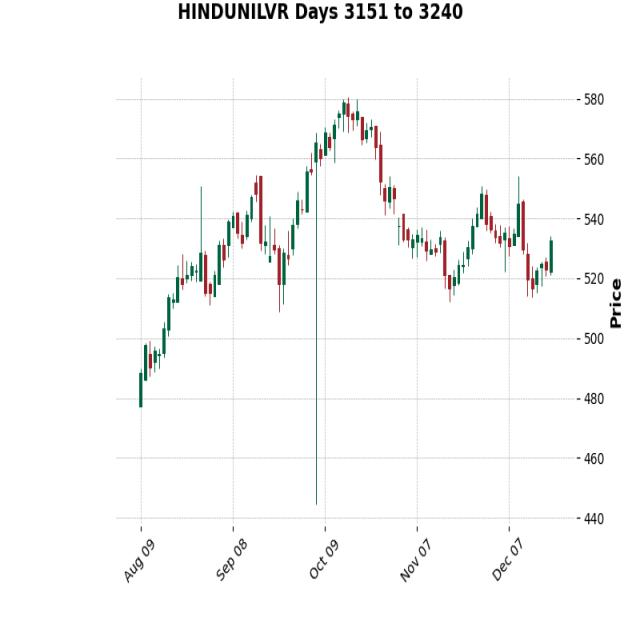Symmetric Triangle: (280, 83, 426, 305)
